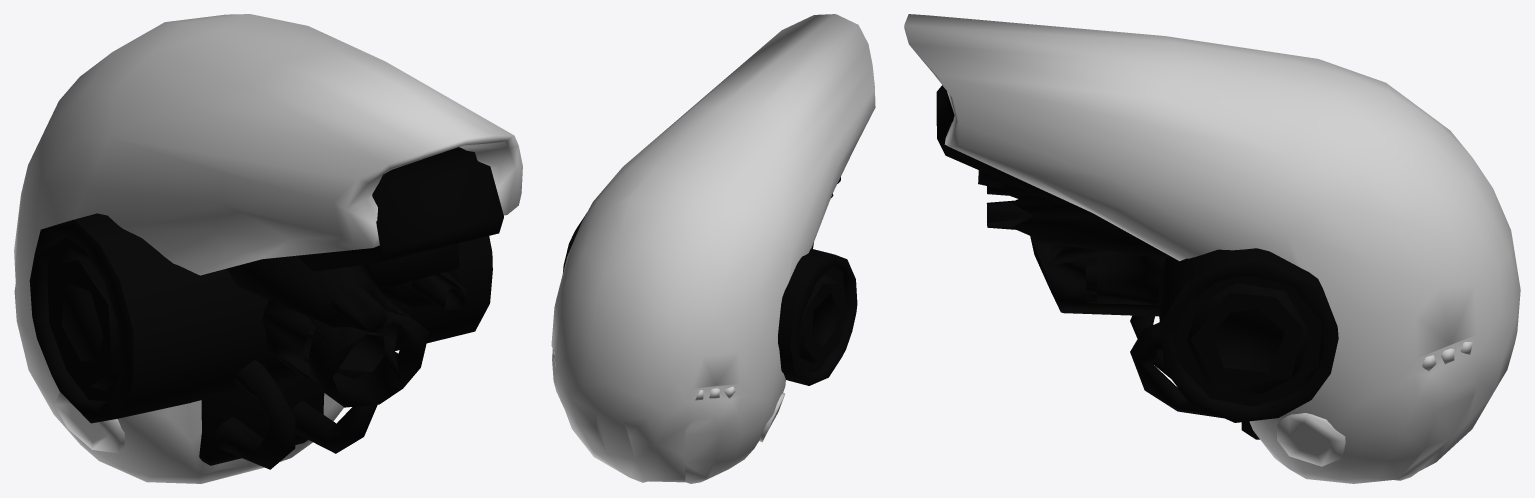
Rendered from Expdrone.gltf.
3 renders of one model, left to right at view 1: azimuth 30°, elevation 25°; view 2: azimuth 150°, elevation 25°; view 3: azimuth 270°, elevation 25°, orthographic. The views are drawn at different scales.
Parts seen in each view (by area): view 1: Body_Front, Body_Back; view 2: Body_Front, Body_Back; view 3: Body_Front, Body_Back.
Boxes of the visible parts, x1,y1,x2,y2 form: Body_Front: (14, 14, 522, 483); Body_Back: (29, 147, 503, 469); Body_Front: (551, 14, 875, 483); Body_Back: (562, 177, 857, 385); Body_Front: (904, 14, 1520, 483); Body_Back: (936, 85, 1338, 439).
Bounding box in the file's own units: 1.76 × 2.31 × 2.96.
